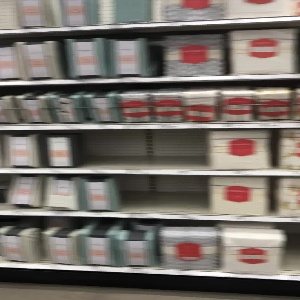void: (75, 127, 208, 171), (114, 173, 209, 218)
